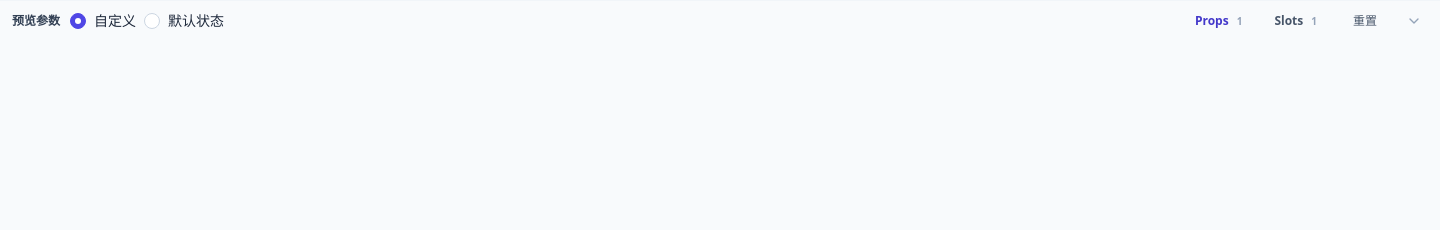
Scenario: ComponentPreviewParameterDock › 点击 tab 应展开抽屉并渲染对应内容
This screenshot has width=1440, height=230.
Click the button "Slots 1" at (1296, 21), box [1261, 9, 1330, 33]
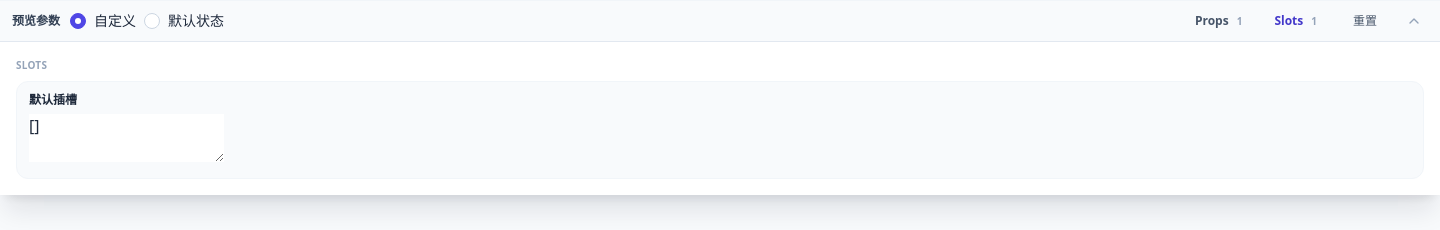
Result: the button titled "展开预览参数" is expanded at [1400, 7, 1428, 35]
Result: the heading "默认插槽" is shown at [29, 91, 77, 108]
